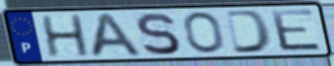A: (87, 11, 145, 59)
D: (223, 9, 274, 55)
E: (268, 8, 325, 53)
H: (39, 13, 92, 59)
O: (181, 10, 227, 55)
S: (133, 11, 183, 57)
